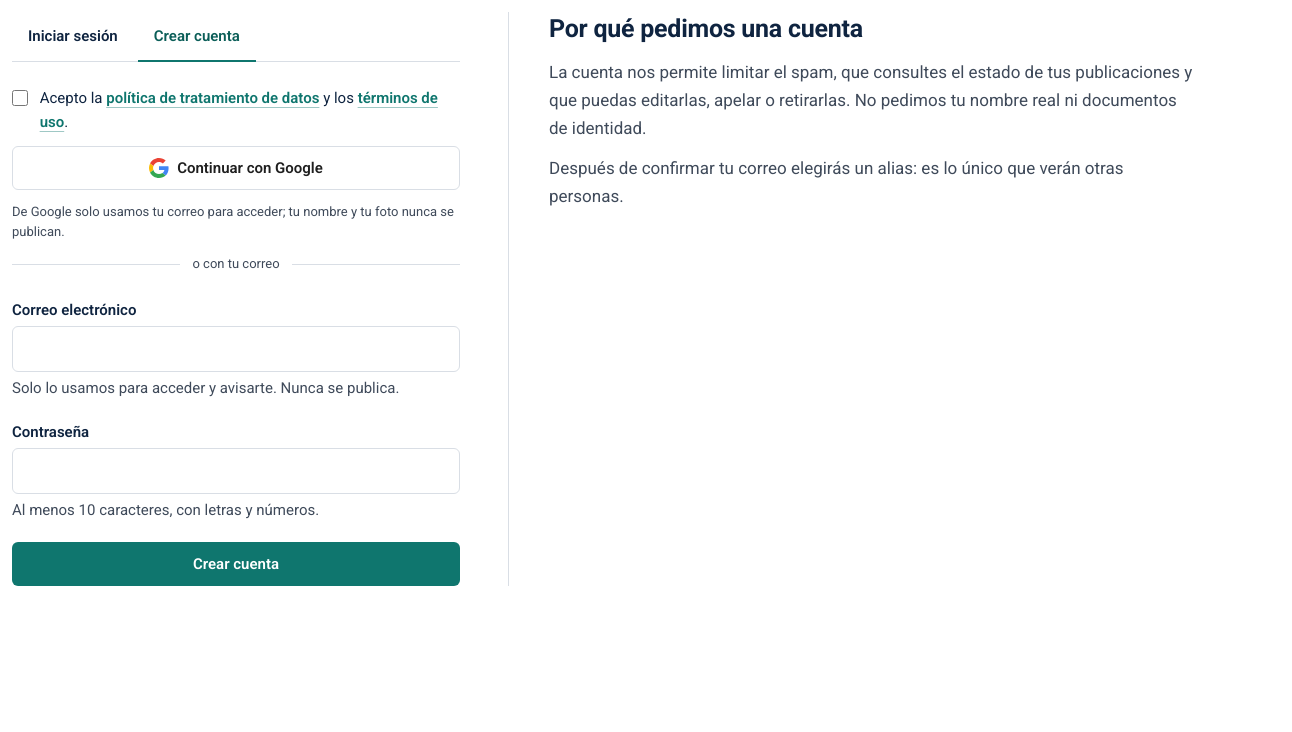
Test: entrar con Google › para crear la cuenta exige aceptar la política de datos
Later steps or results of the test are not shown.
Click the button "Continuar con Google": (236, 168) [12,146,460,190]
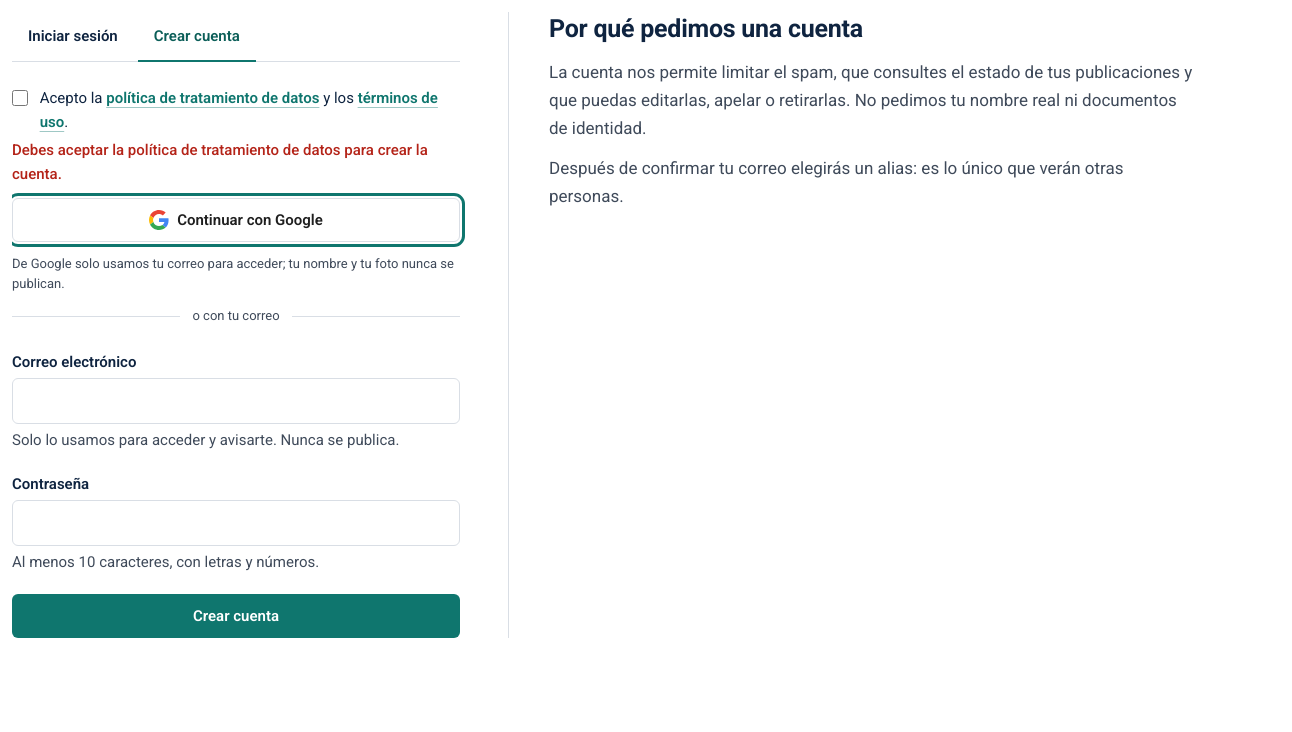
Now the text "Debes aceptar la política de tratamiento de datos" is shown, box [12,141,428,183]
